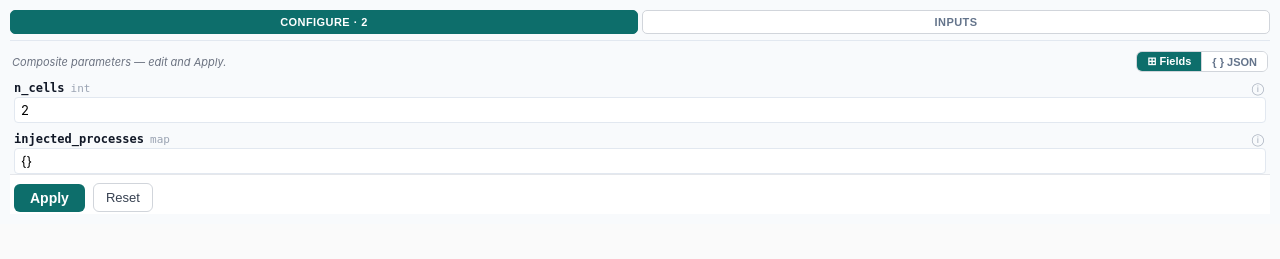
Test: ConfigPanel — Configure Fields⇄JSON parity › defaults to Fields mode; the JSON toggle reveals the editable document
The width and height of the screenshot is (1280, 259).
Expected: the number field with id "explore-cfg-n_cells" is shown, x1=14 y1=97 x2=1266 y2=123
Note: Switch to JSON: textarea appears, fields gone.
Click the tab "{ } JSON" at (1234, 62), box x1=1201 y1=52 x2=1267 y2=71
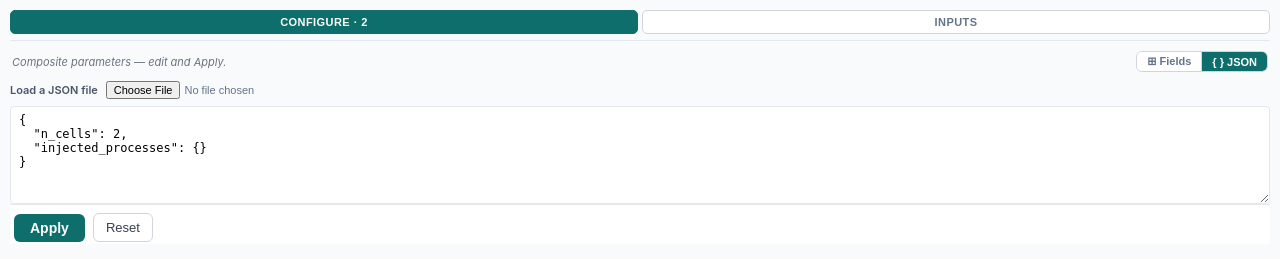
Result: the text box with placeholder "matched onto this composite" is shown at x1=10 y1=106 x2=1270 y2=204
Result: the number field with id "explore-cfg-n_cells" is gone
